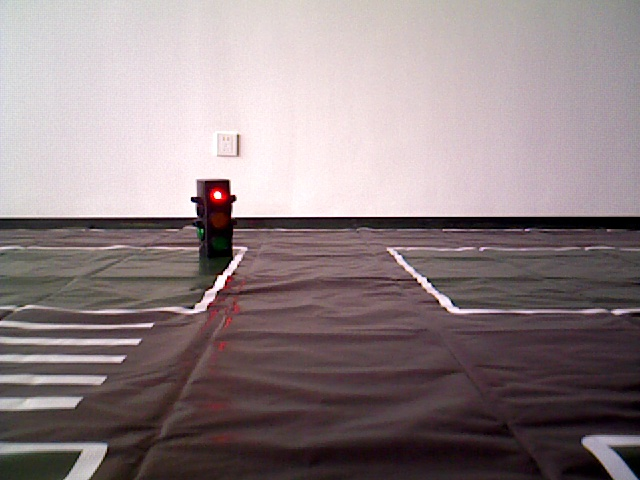red: (195, 181, 229, 259)
